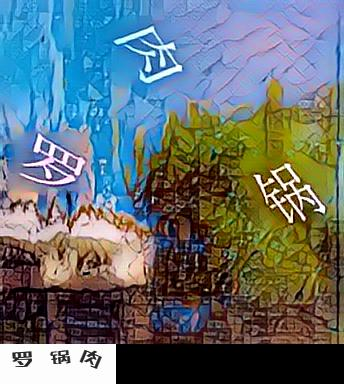character: (107, 21, 186, 86), (249, 162, 329, 225), (19, 131, 87, 191)
